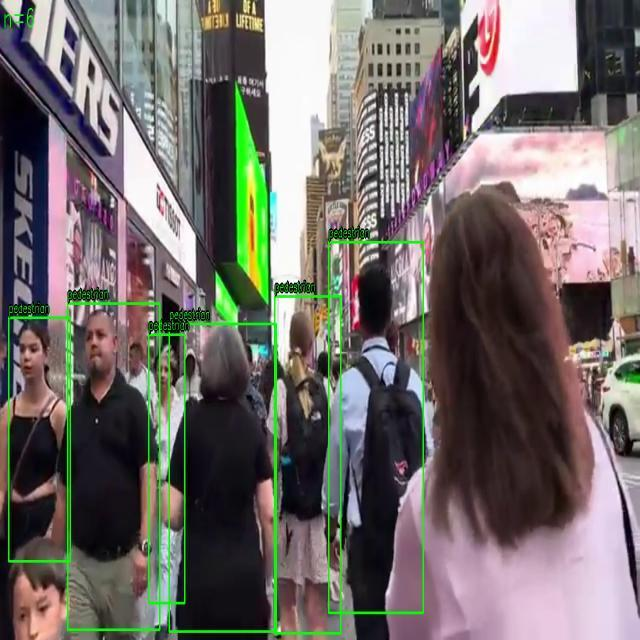person: (328, 242, 424, 614), (169, 323, 277, 632), (68, 303, 160, 630), (274, 296, 342, 634), (8, 317, 70, 562), (148, 334, 186, 604)
